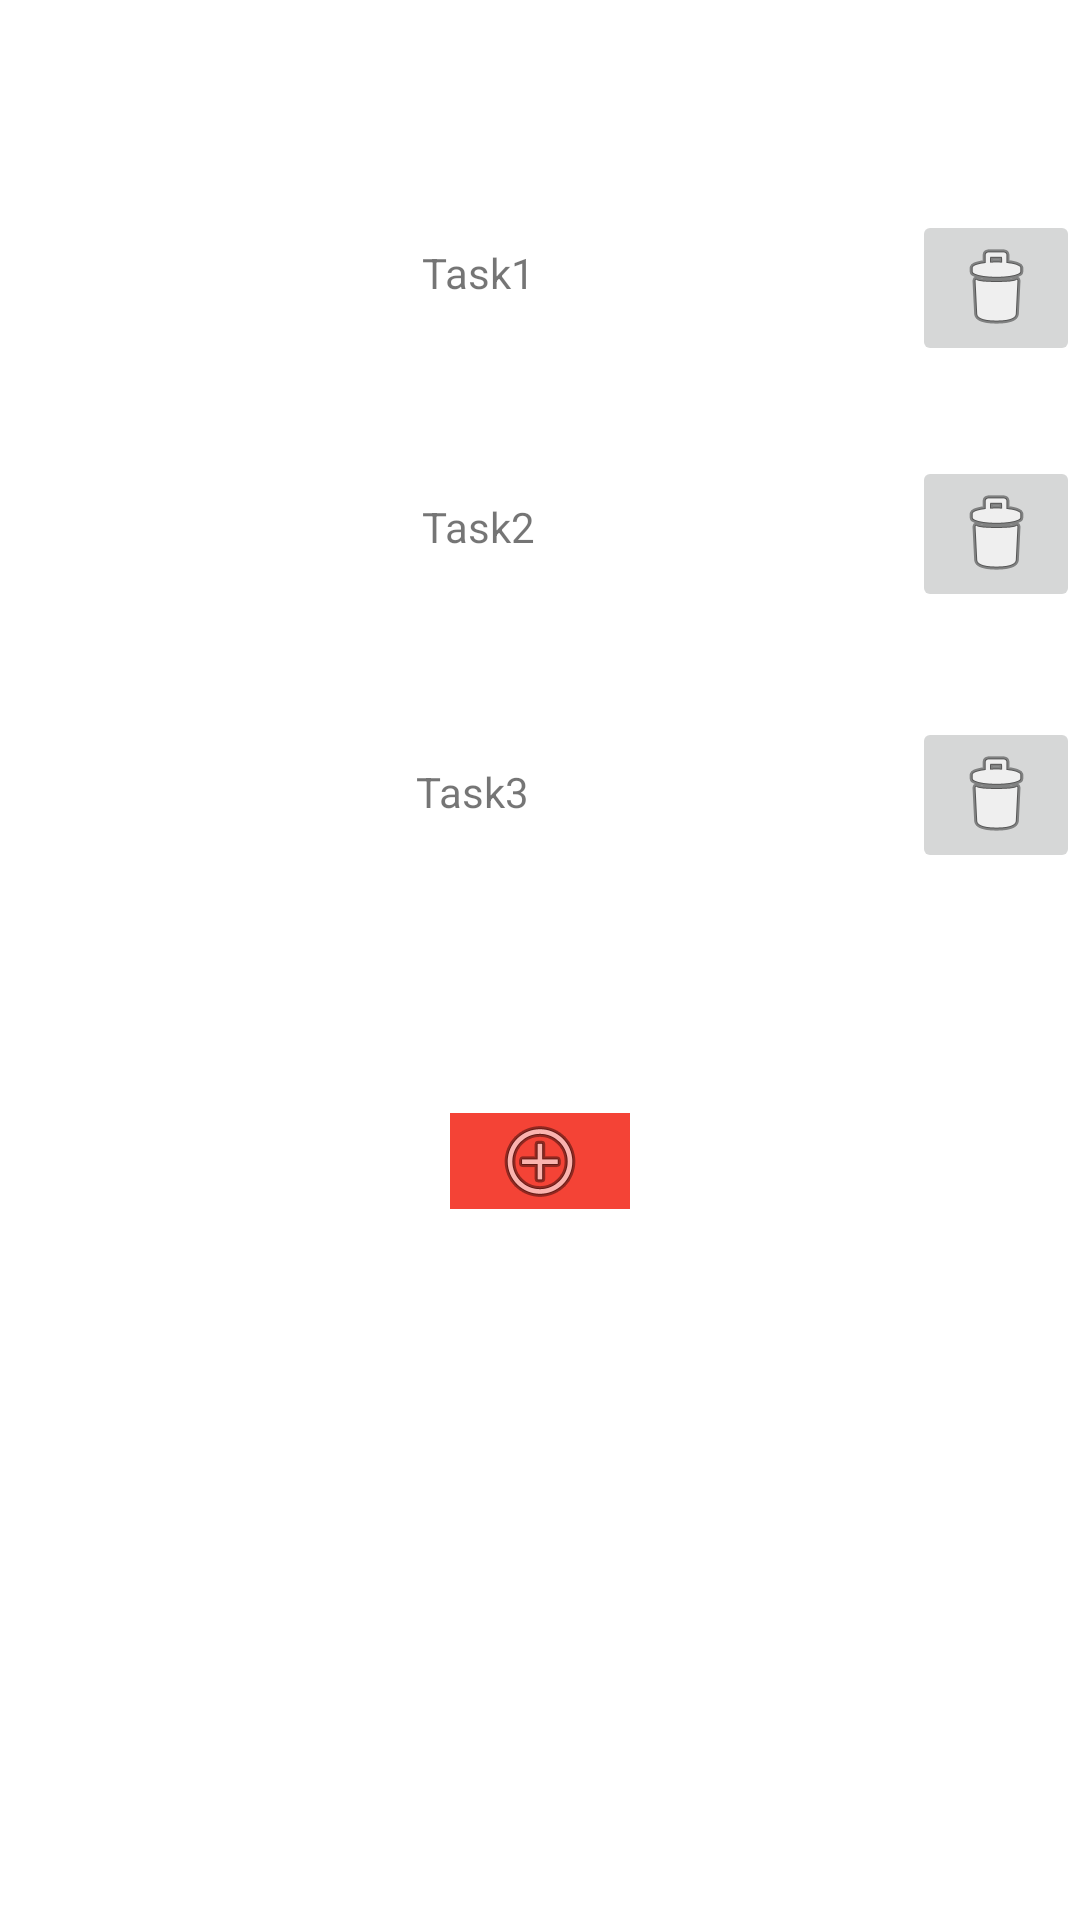

Icon click points for this 1080px x 1920px phone screenshot, format [x,y]:
add: [540,1161]
delete: [996,288], [996,534], [996,795]
